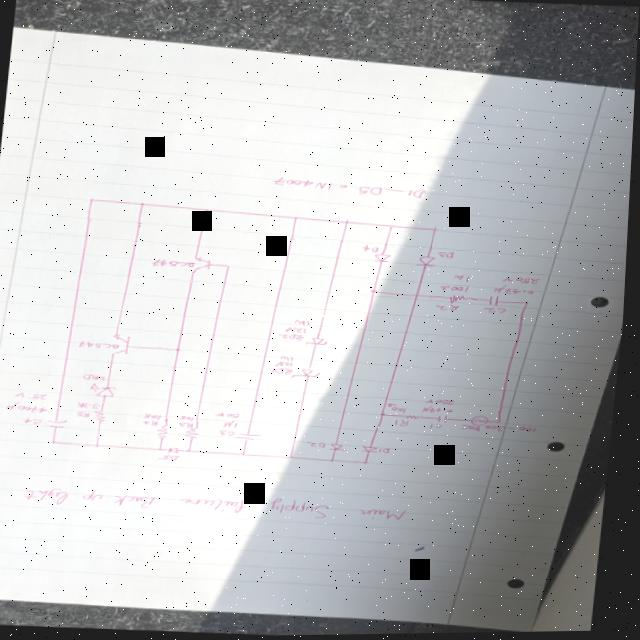capacitor: (239, 433, 267, 443), (50, 419, 74, 430), (489, 296, 505, 309), (440, 416, 455, 425)
crossover: (417, 295, 425, 300)
diode: (93, 383, 124, 399), (294, 368, 326, 382), (418, 258, 442, 270), (375, 254, 395, 266), (309, 338, 333, 348), (365, 446, 385, 455), (333, 445, 354, 453), (172, 448, 186, 455)
junction: (383, 412, 394, 419), (432, 228, 443, 234), (373, 290, 382, 296), (346, 220, 354, 226), (206, 208, 214, 214), (389, 226, 398, 231), (54, 440, 62, 445), (99, 444, 107, 449), (90, 199, 99, 203), (191, 450, 200, 454), (161, 448, 170, 452), (295, 217, 303, 221), (141, 203, 149, 207), (292, 457, 300, 461), (333, 460, 341, 464), (368, 462, 376, 466), (228, 266, 235, 270), (528, 303, 534, 307), (178, 349, 186, 352), (501, 422, 508, 425), (246, 454, 252, 457)
resistor: (160, 424, 176, 441), (452, 295, 474, 307), (189, 427, 207, 440), (98, 410, 113, 424), (409, 416, 427, 422)
source: (476, 417, 494, 428)
text: (27, 482, 416, 528), (273, 176, 431, 203), (466, 424, 542, 437), (10, 401, 55, 415), (497, 286, 540, 298), (154, 259, 199, 270), (82, 340, 125, 351), (20, 392, 54, 402), (427, 406, 459, 416), (442, 286, 474, 296), (505, 279, 545, 287), (430, 399, 460, 408), (390, 405, 413, 416), (86, 374, 111, 383), (82, 402, 106, 411), (281, 335, 310, 342), (439, 306, 463, 314), (456, 276, 475, 286), (219, 413, 246, 420), (28, 417, 48, 426), (487, 309, 512, 316), (365, 246, 384, 255), (440, 253, 458, 262), (276, 369, 299, 376), (163, 455, 186, 462), (288, 328, 311, 335), (311, 442, 331, 450), (228, 420, 244, 430), (296, 321, 316, 328), (279, 362, 298, 369), (148, 420, 164, 428), (225, 430, 241, 438), (400, 420, 414, 429), (149, 414, 167, 421), (183, 423, 199, 430), (81, 412, 96, 419), (184, 416, 199, 423), (435, 425, 449, 432), (284, 357, 298, 364), (384, 449, 396, 456)
transistor: (112, 335, 136, 357), (193, 257, 217, 274)
